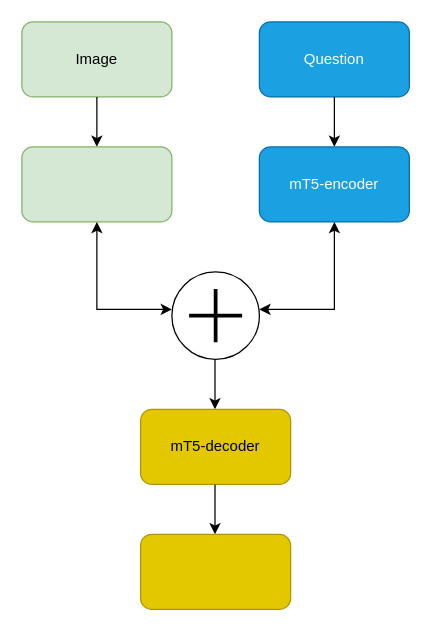
This 431x631 diagram has some shape labels left out. Each missing label, with the box of its shape:
Answer: (139, 533, 291, 609)
ViT: (21, 146, 172, 222)
